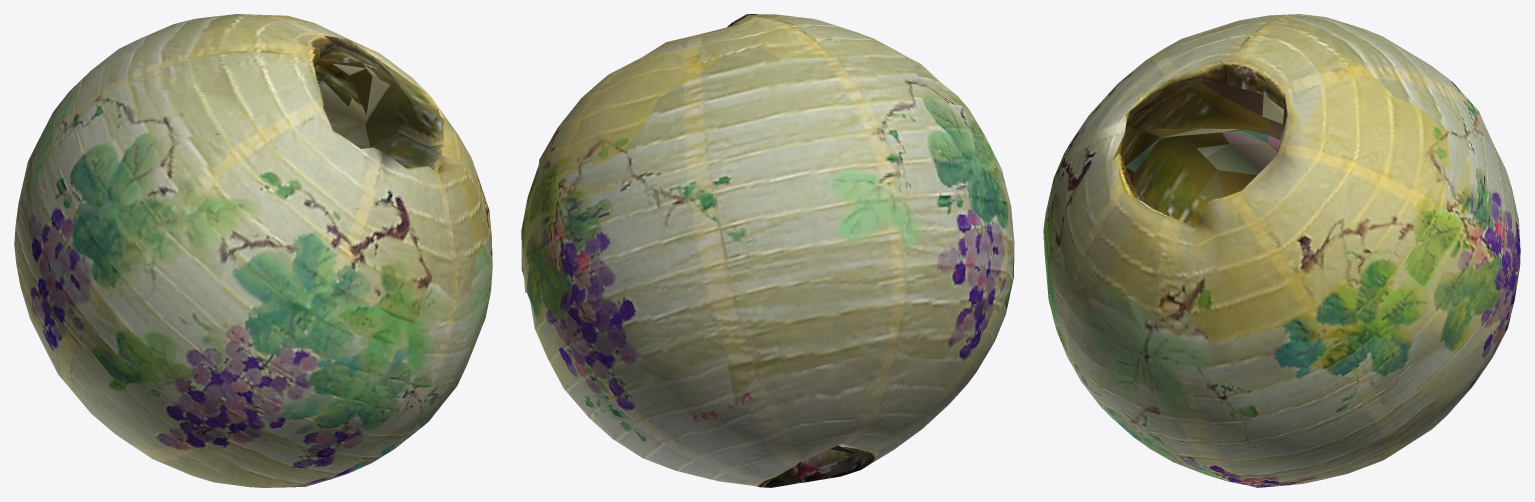
Rendered from AT2 Zea Grapes.glb.
The picture shows the model from 3 angles, left to right: view 1: azimuth 30°, elevation 25°; view 2: azimuth 150°, elevation 25°; view 3: azimuth 270°, elevation 25°; orthographic projection. The views are drawn at different scales.
Bounding box in the file's own units: 990 × 969 × 1000.
Materials: 1 (1 with a texture image).
